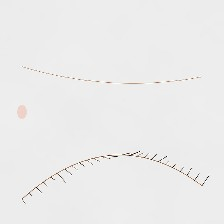hemorrhage_spot: (53, 72, 127, 131)
